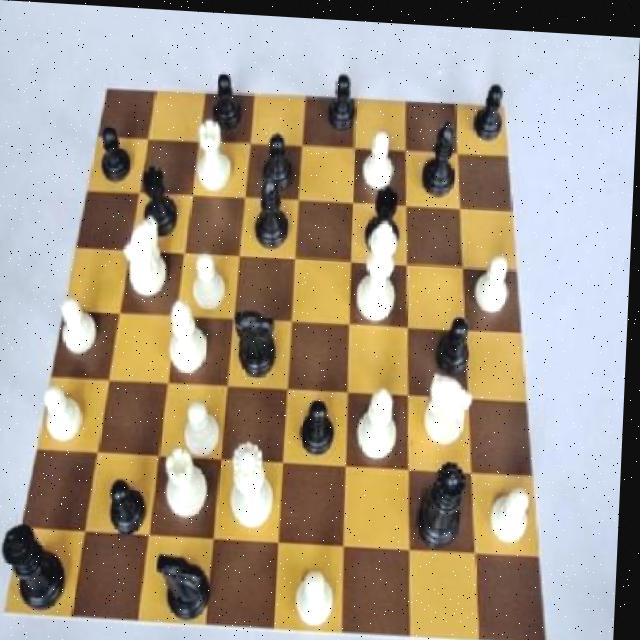bishop: (420, 102, 463, 201), (252, 169, 299, 257)
black-bishop: (0, 516, 77, 615)
black-king: (158, 542, 221, 637), (233, 298, 289, 388)
black-knight: (202, 57, 253, 140), (255, 115, 300, 206), (320, 54, 364, 140), (104, 470, 156, 542), (294, 382, 341, 459), (94, 111, 142, 182), (435, 304, 476, 378), (473, 67, 508, 144)
black-pawn: (420, 450, 479, 545)
black-queen: (138, 153, 185, 239), (363, 179, 411, 252)
black-rook: (355, 377, 407, 461), (164, 291, 213, 376)
white-bishop: (355, 214, 409, 322)
white-king: (423, 351, 477, 454), (123, 209, 175, 311)
white-knight: (488, 456, 544, 547), (291, 556, 350, 634), (52, 285, 106, 368), (186, 243, 237, 322), (40, 370, 91, 448), (474, 243, 521, 324), (361, 116, 404, 201), (184, 385, 230, 461)
white-pawn: (229, 438, 284, 543)
white-queen: (162, 439, 219, 528), (191, 114, 242, 195)
